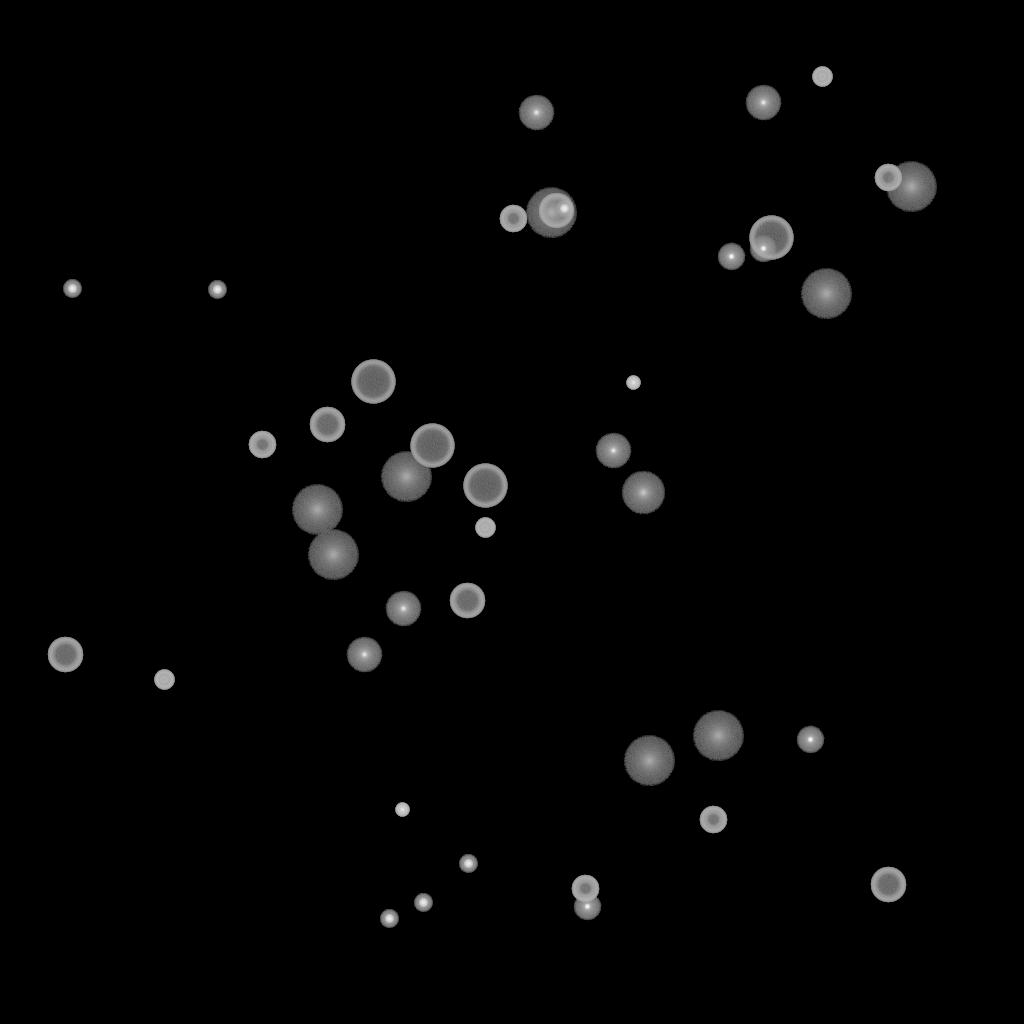depth:-10: (749, 235, 777, 263), (573, 893, 601, 921), (796, 726, 824, 754), (717, 243, 745, 271)
depth:-20: (208, 281, 226, 299), (380, 910, 398, 928), (63, 280, 81, 298), (555, 200, 573, 218), (414, 894, 432, 912), (459, 855, 477, 873)
depth:-30: (395, 803, 409, 817), (626, 376, 640, 390)
depth:-40: (812, 67, 832, 87), (154, 670, 174, 690), (475, 518, 495, 538)
depth:-50: (874, 164, 902, 192), (571, 875, 599, 903), (499, 205, 527, 233), (699, 806, 727, 834), (248, 431, 276, 459)
depth:-60: (309, 407, 345, 443), (449, 583, 485, 619), (47, 637, 83, 673), (538, 193, 574, 229), (870, 867, 906, 903)
depth:-70: (463, 464, 507, 508), (351, 360, 395, 404), (410, 424, 454, 468), (749, 216, 793, 260)
depth:0: (346, 637, 382, 673), (385, 591, 421, 627), (745, 85, 781, 121), (518, 95, 554, 131), (595, 433, 631, 469)
depth:10: (621, 471, 665, 515)
depth:20: (380, 452, 432, 502), (885, 162, 937, 212), (525, 188, 577, 238), (692, 711, 744, 761), (623, 736, 675, 786), (307, 530, 359, 580), (291, 485, 343, 535), (800, 269, 852, 319)
